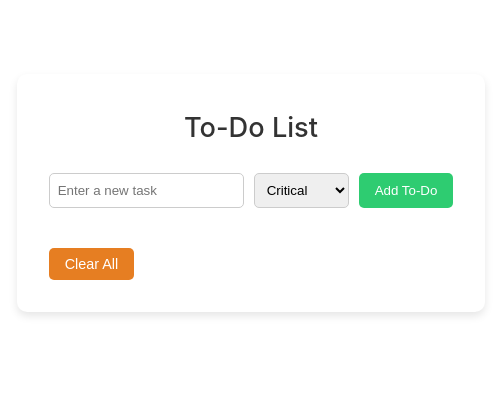
Test case: Todo Application Integration Test › should clear all todos
Type "Task 1" into the field with class "todo-input" at (147, 191), box x1=49 y1=173 x2=244 y2=208
Select "Critical" in the dropdown at (302, 191), box x1=254 y1=173 x2=349 y2=208
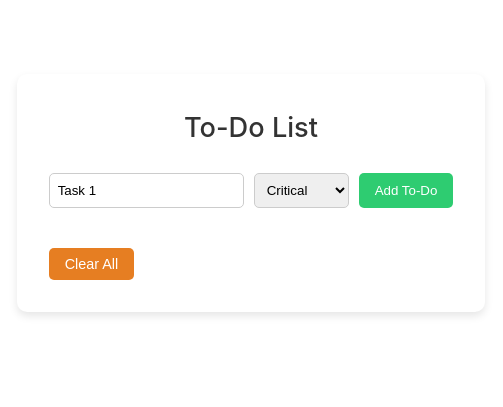
Click the button "Add To-Do" at (407, 191), box x1=359 y1=173 x2=454 y2=208
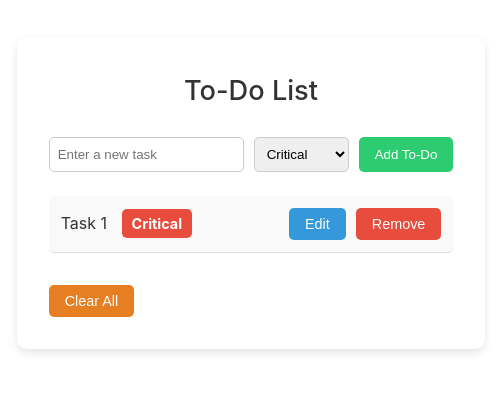
Type "Task 2" into the field with class "todo-input" at (147, 155), box x1=49 y1=137 x2=244 y2=172
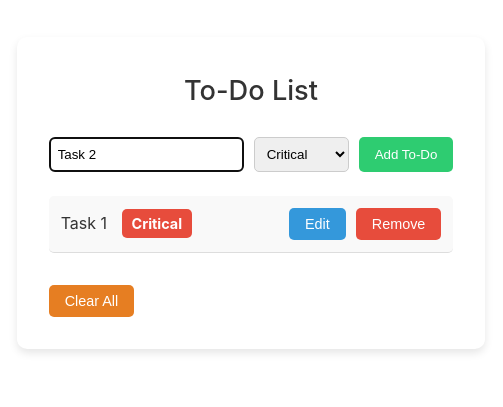
Select "Moderate" in the dropdown at (302, 155), box x1=254 y1=137 x2=349 y2=172
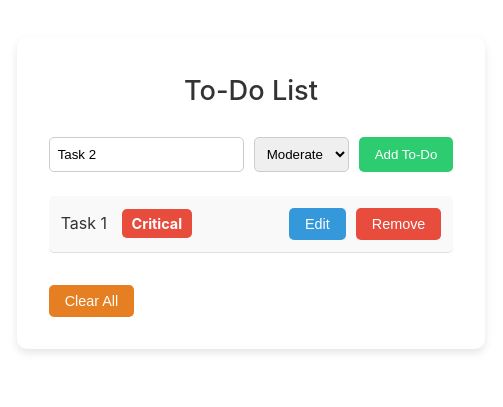
Click the button "Add To-Do" at (407, 155), box x1=359 y1=137 x2=454 y2=172
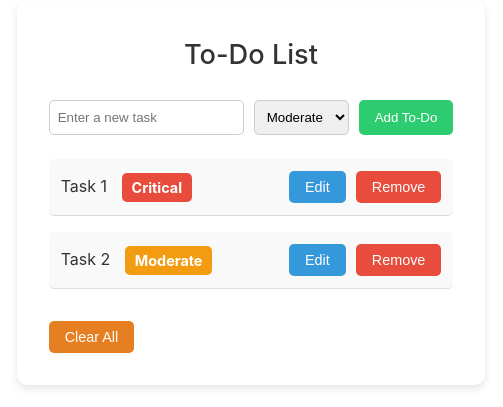
Expected: the number of list items with class "todo-item" is 2, x1=49 y1=159 x2=453 y2=216; x1=49 y1=232 x2=453 y2=289
Click the button "Clear All" at (92, 337), box x1=49 y1=321 x2=135 y2=353
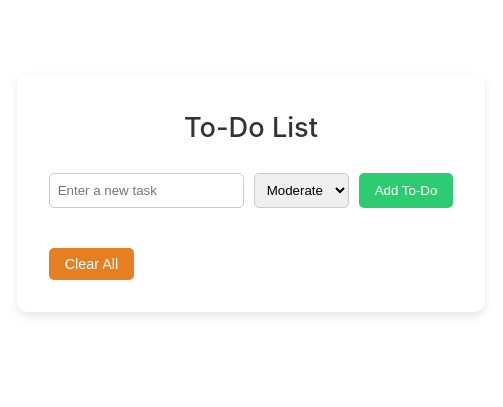
Expected: the list item with class "todo-item" is gone
